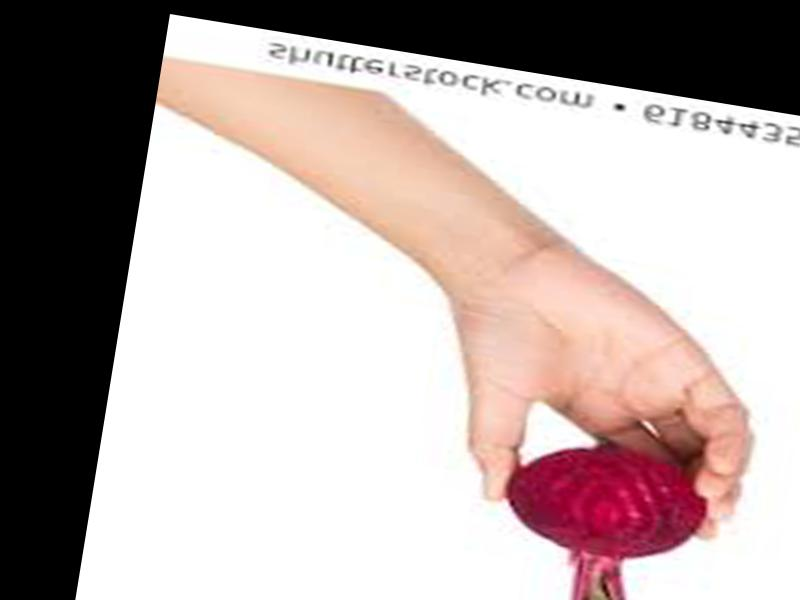Beet: (488, 435, 717, 600)
